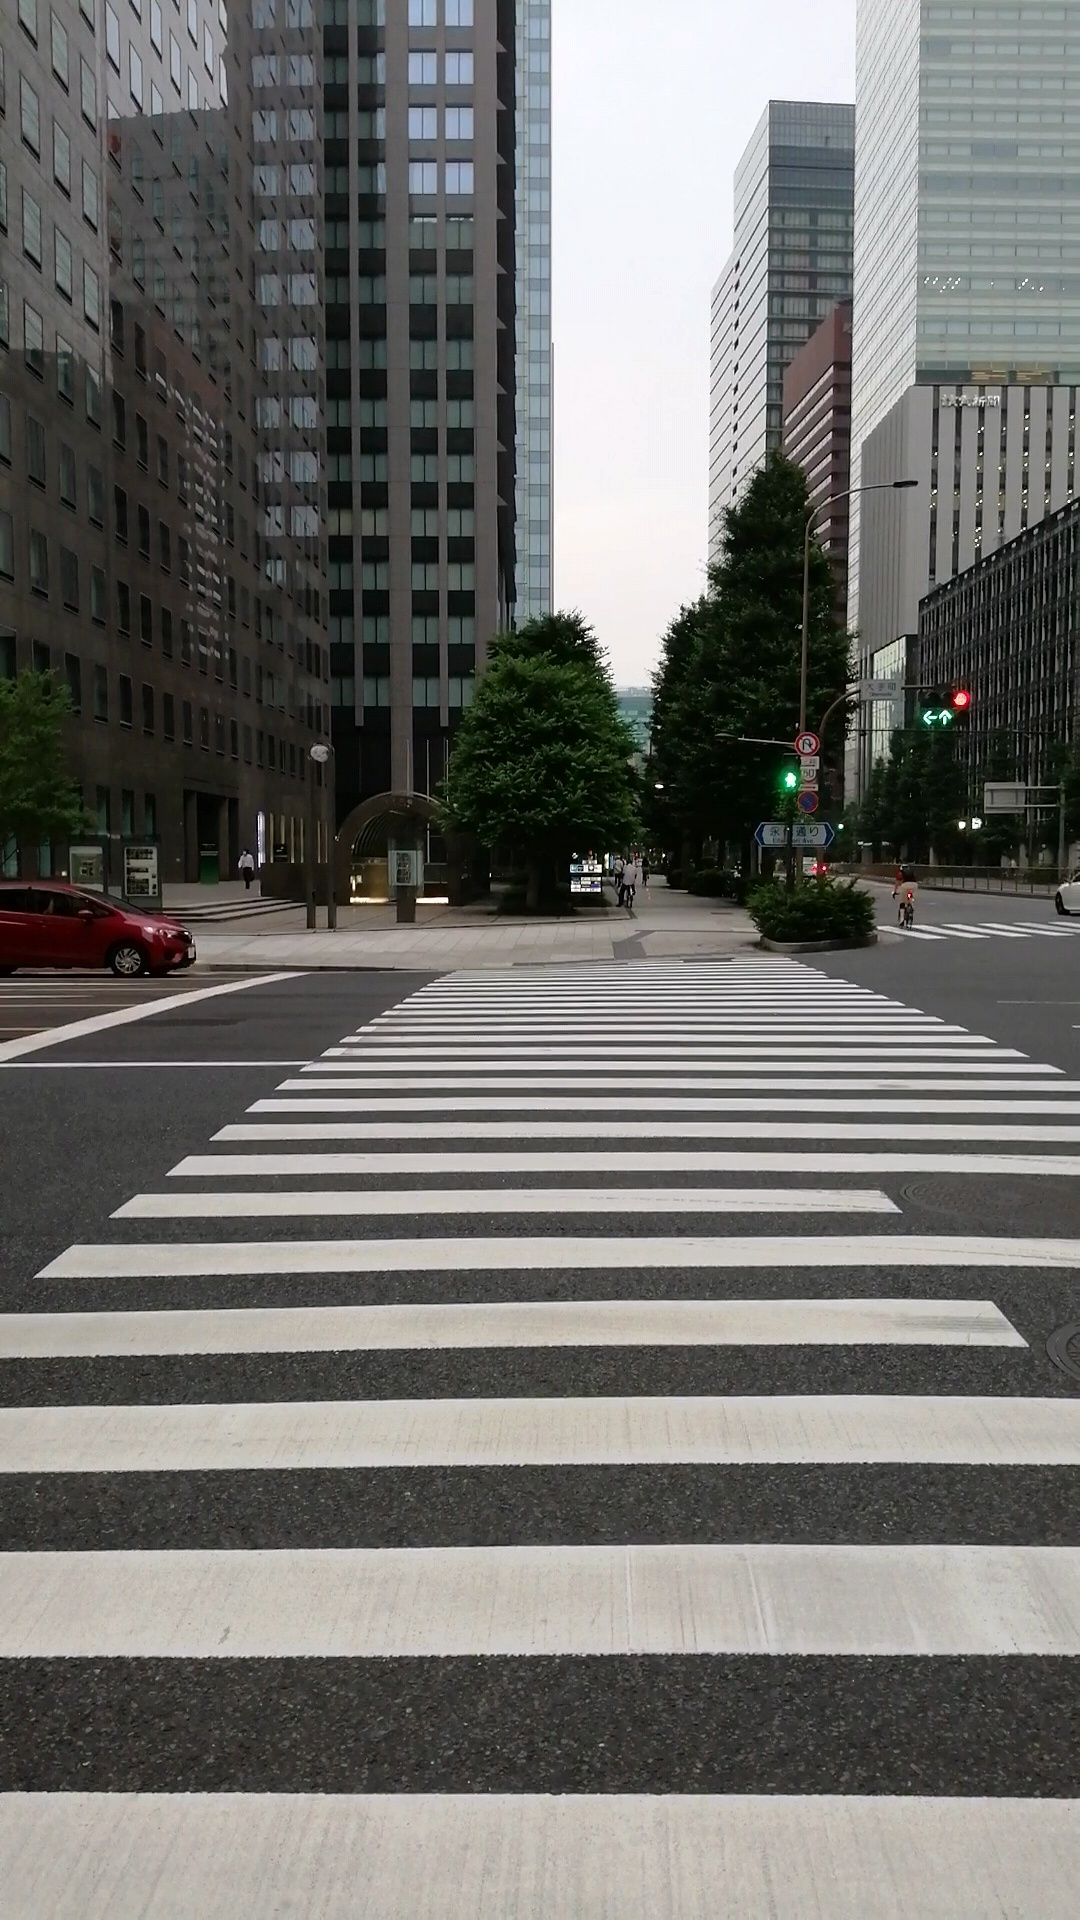green: (779, 752, 800, 793)
